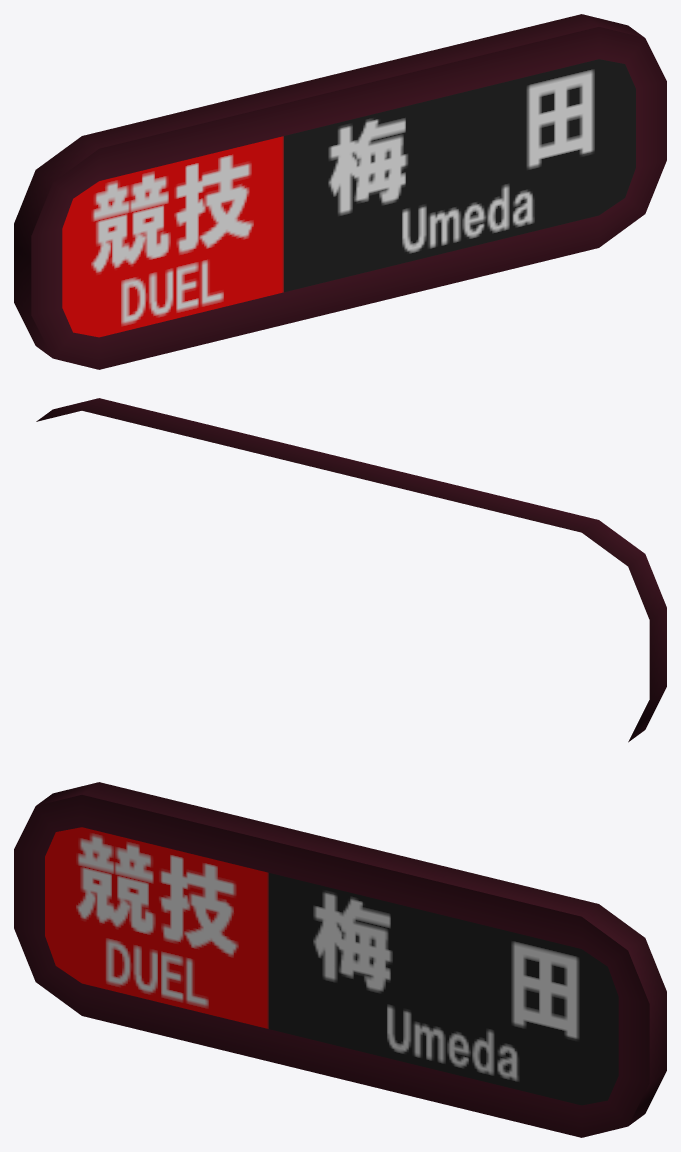
File: H2000_1_UMEDA.glb
3 views of the same model, one above another, from view 1: azimuth 30°, elevation 25°; view 2: azimuth 150°, elevation 25°; view 3: azimuth 330°, elevation 25° (orthographic).
Parts seen in each view (by area): view 1: FRAME_ROOT; view 2: FRAME_ROOT; view 3: FRAME_ROOT.
Boxes of the visible parts, left/top/right/bottom form: FRAME_ROOT: left=14, top=14, right=666, bottom=369; FRAME_ROOT: left=36, top=398, right=666, bottom=742; FRAME_ROOT: left=14, top=782, right=666, bottom=1137.
Size of the model in its own units: 2.15 by 0.7158 by 0.1014.
Materials: 2 (2 with a texture image).
